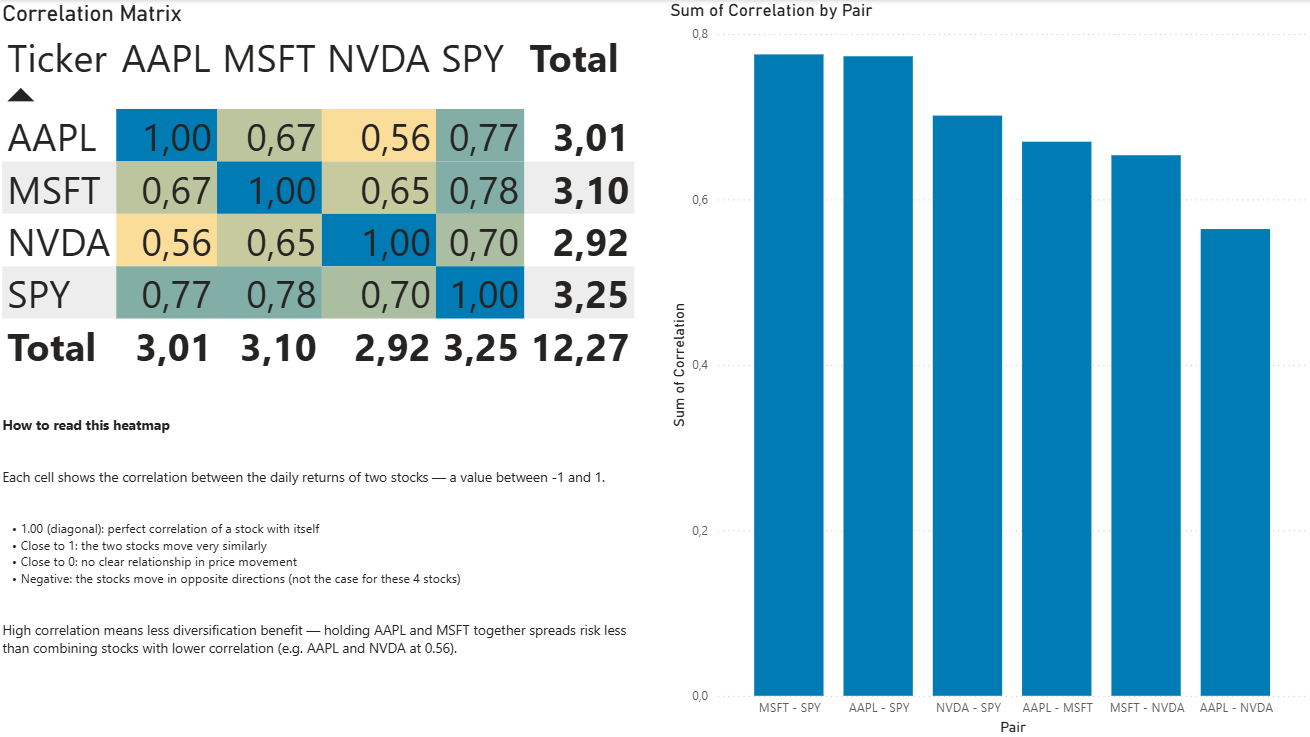

Layout of this report page (visuals, bound fields, positions):
{"tool":"powerbi","page":{"name":"Correlation Analysis","canvas":[1280,720],"ordinal":3},"visuals":[{"type":"pivotTable","title":"Correlation Matrix","fields":{"Columns":["correlation_matrix.Ticker2"],"Rows":["correlation_matrix.Ticker"],"Values":["Sum(correlation_matrix.Correlation)"]},"box":[0,0,640,398.8],"z":0},{"type":"textbox","box":[0,398.8,640,321],"z":1000},{"type":"clusteredColumnChart","fields":{"Y":["Sum(correlation_pairs.Correlation)"],"Category":["correlation_pairs.Pair"]},"box":[649.7,0,630.3,719.8],"z":2000}]}

Visuals, with their boxes in screenshot pixels (x1, y1, x2, y2), scaled from the page's 1280x720 canvas onto the 1310x737 screenshot:
"Correlation Matrix" pivotTable: box=[0, 0, 655, 408]
textbox: box=[0, 408, 655, 736]
clusteredColumnChart - Sum(correlation_pairs.Correlation) x correlation_pairs.Pair: box=[665, 0, 1309, 736]
